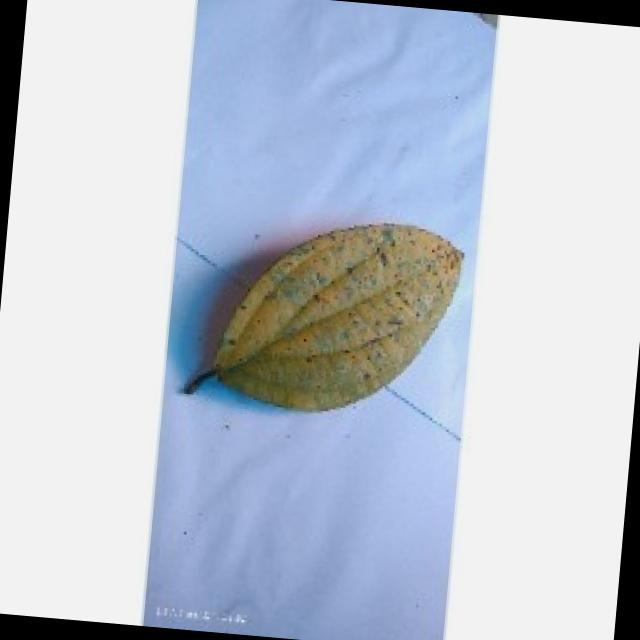slow-decline: (174, 198, 466, 426)
